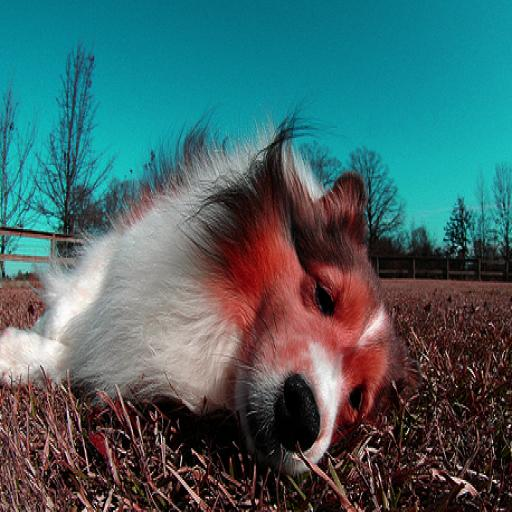dog_face: (232, 155, 410, 470)
